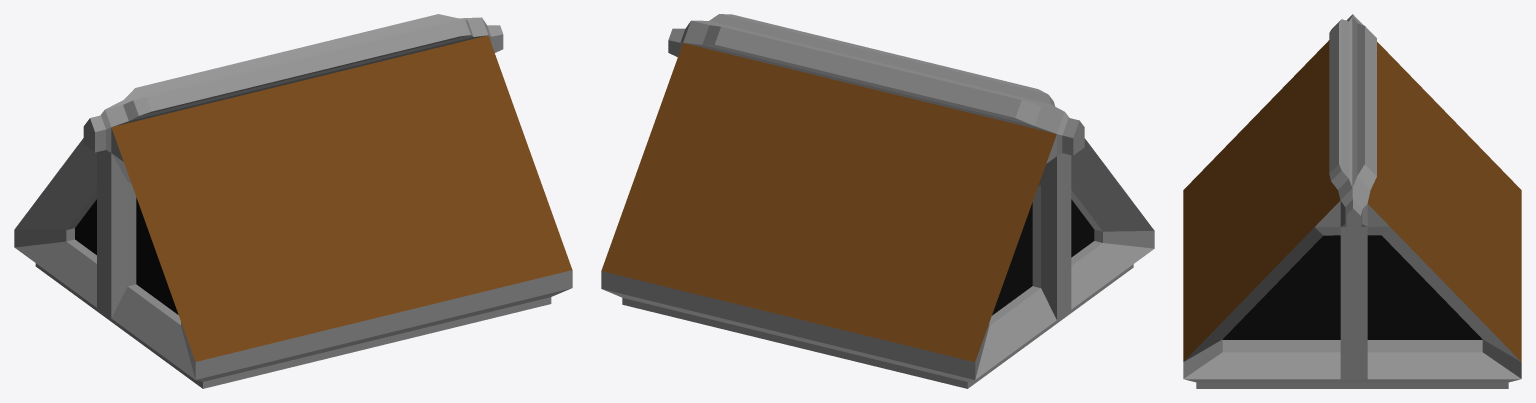
File: tent.fbx
The picture shows the model from 3 angles, left to right: view 1: azimuth 30°, elevation 25°; view 2: azimuth 150°, elevation 25°; view 3: azimuth 270°, elevation 25°; orthographic projection. The views are drawn at different scales.
Parts seen in each view (by area): view 1: Cube; view 2: Cube; view 3: Cube.
Boxes of the visible parts, box(x1,y1,x2,y2) form: Cube: box(14, 14, 572, 388); Cube: box(601, 14, 1154, 388); Cube: box(1183, 14, 1521, 388).
Size of the model in its own units: 1132 by 609 by 865.
